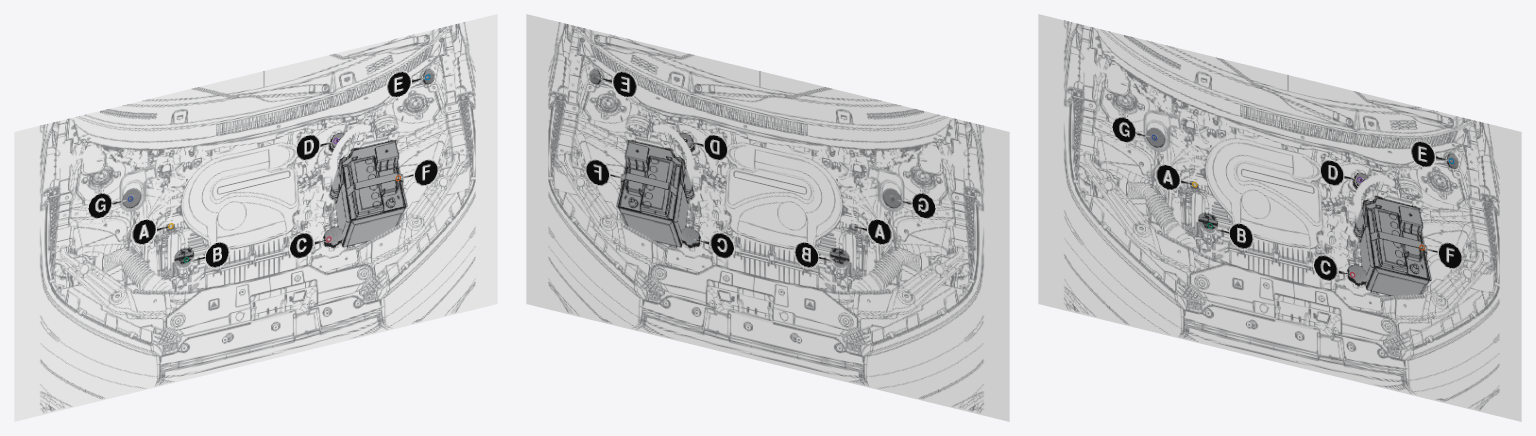
The model's file is ram-700-bighorn-2022.glb.
3 views of the same model, side by side, from view 1: azimuth 30°, elevation 25°; view 2: azimuth 150°, elevation 25°; view 3: azimuth 330°, elevation 25° (orthographic).
Parts seen in each view (by area): view 1: Engine compartment – reference drawing, F – 12 V battery assembly; view 2: Engine compartment – reference drawing; view 3: Engine compartment – reference drawing, F – 12 V battery assembly.
Part boxes in pixels (<box>): Engine compartment – reference drawing: <box>14,14,497,421</box>; F – 12 V battery assembly: <box>339,139,407,247</box>; Engine compartment – reference drawing: <box>526,14,1009,421</box>; Engine compartment – reference drawing: <box>1038,14,1521,421</box>; F – 12 V battery assembly: <box>1363,196,1431,297</box>.
Bounding box in the file's own units: 1 × 0.5732 × 0.00035.
Materials: 8 (1 with a texture image).
